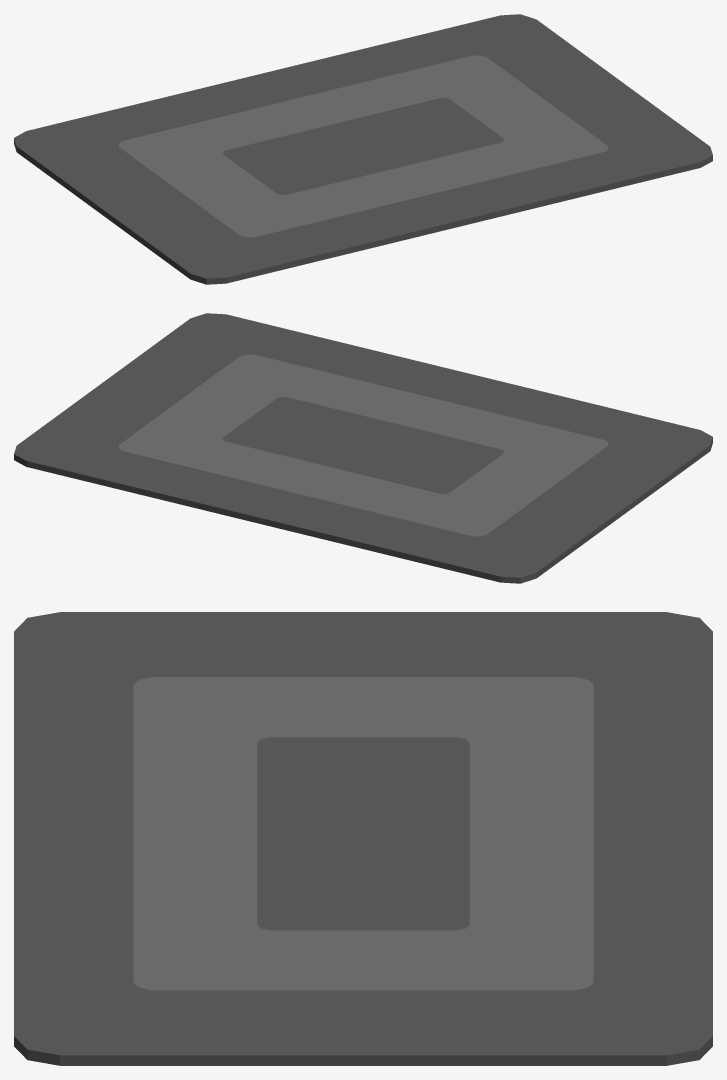
The model's file is Carpet3_C3.fbx.
3 views of the same model, one above another, from view 1: azimuth 30°, elevation 25°; view 2: azimuth 150°, elevation 25°; view 3: azimuth 270°, elevation 25° (orthographic). The views are drawn at different scales.
Parts seen in each view (by area): view 1: Carpet3_C3; view 2: Carpet3_C3; view 3: Carpet3_C3.
Boxes of the visible parts, left/top/right/bottom form: Carpet3_C3: left=14, top=14, right=712, bottom=284; Carpet3_C3: left=14, top=313, right=712, bottom=583; Carpet3_C3: left=14, top=612, right=712, bottom=1065.
Bounding box in the file's own units: 90 × 1 × 60.
